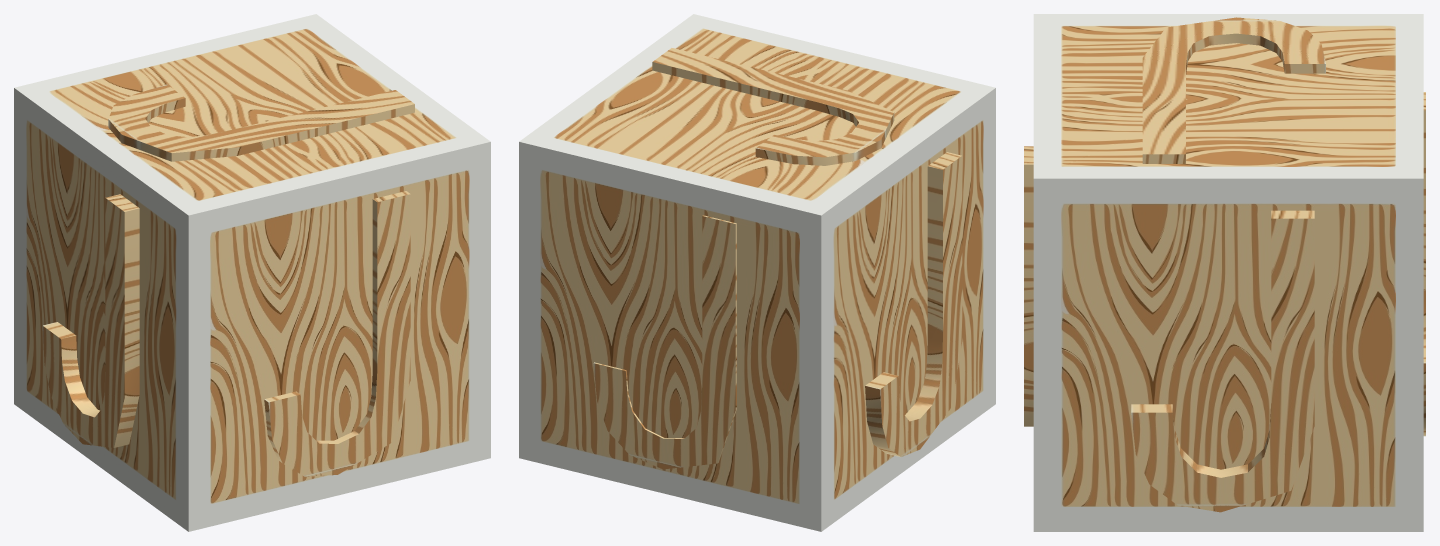
The model's file is Block J.fbx.
3 renders of one model, left to right at view 1: azimuth 30°, elevation 25°; view 2: azimuth 150°, elevation 25°; view 3: azimuth 270°, elevation 25°, orthographic. The views are drawn at different scales.
Visible parts, largest first — view 1: Box, FRONT, LEFT, TOP; view 2: Box, BACK, LEFT, TOP; view 3: Box, RIGHT, TOP, FRONT, BACK.
Part boxes in pixels (x1,y1,x2,y2): Box: [14, 14, 490, 531]; FRONT: [264, 191, 410, 476]; LEFT: [42, 194, 139, 447]; TOP: [108, 84, 414, 161]; Box: [519, 14, 995, 531]; BACK: [593, 215, 736, 469]; LEFT: [865, 152, 962, 457]; TOP: [652, 48, 894, 165]; Box: [1033, 14, 1423, 531]; RIGHT: [1131, 210, 1314, 512]; TOP: [1142, 17, 1325, 163]; FRONT: [1024, 146, 1033, 426]; BACK: [1423, 92, 1425, 436].
Size of the model in its own units: 1.1 by 1.04 by 1.03.
2 materials, 2 textured.
